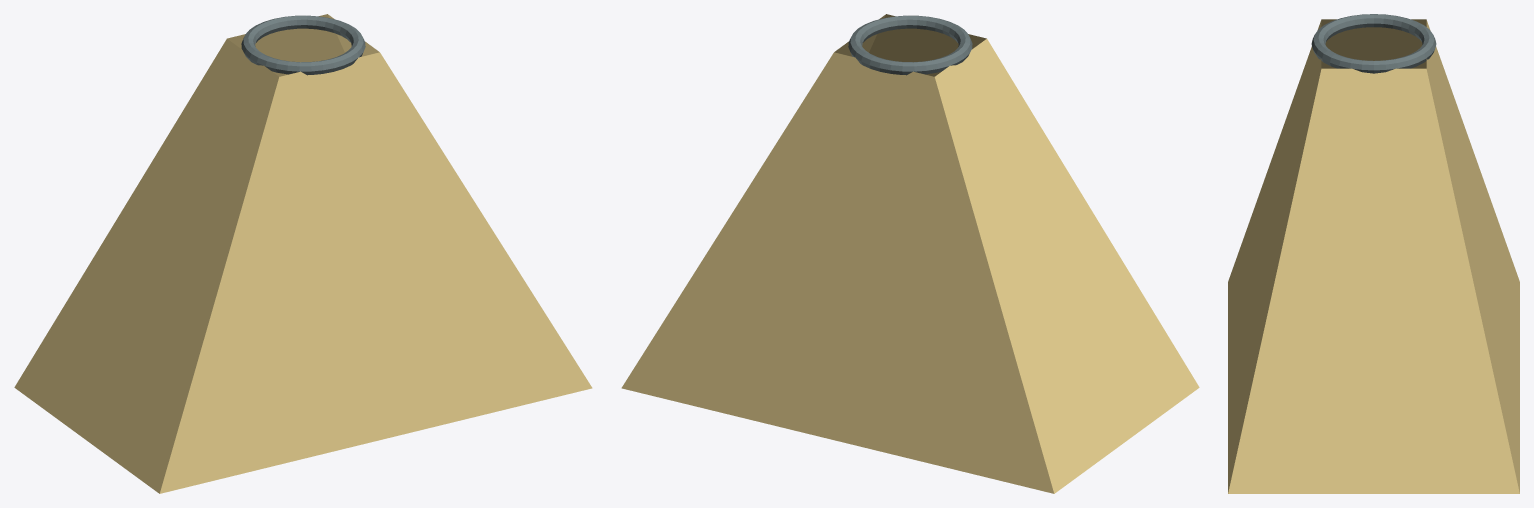
The picture shows the model from 3 angles, left to right: view 1: azimuth 30°, elevation 25°; view 2: azimuth 150°, elevation 25°; view 3: azimuth 270°, elevation 25°; orthographic projection.
Parts seen in each view (by area): view 1: open neck poncho, open collar; view 2: open neck poncho, open collar; view 3: open neck poncho, open collar.
Boxes of the visible parts, <box> form: open neck poncho: <box>14,14,592,493</box>; open collar: <box>241,15,365,75</box>; open neck poncho: <box>621,14,1199,493</box>; open collar: <box>848,15,972,75</box>; open neck poncho: <box>1228,19,1519,493</box>; open collar: <box>1311,14,1436,73</box>.
Size of the model in its own units: 0.86 by 0.662 by 0.5.
